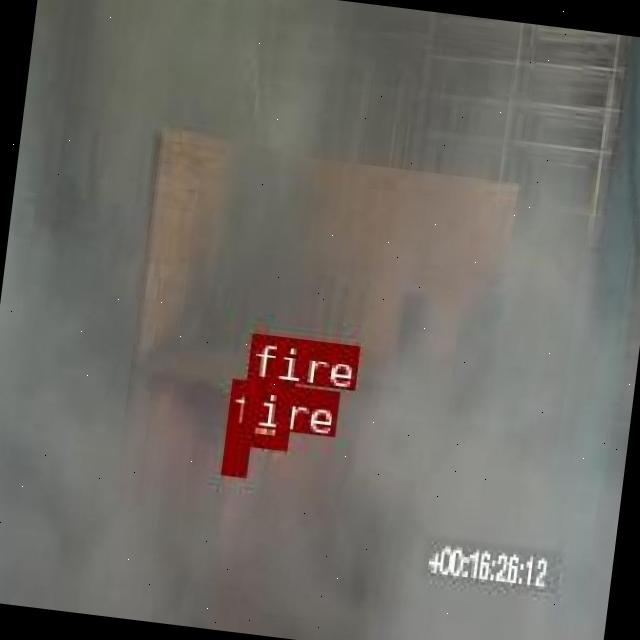fire: (238, 376, 292, 446), (219, 422, 249, 474)
